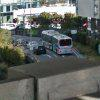Bus: (39, 26, 74, 58)
